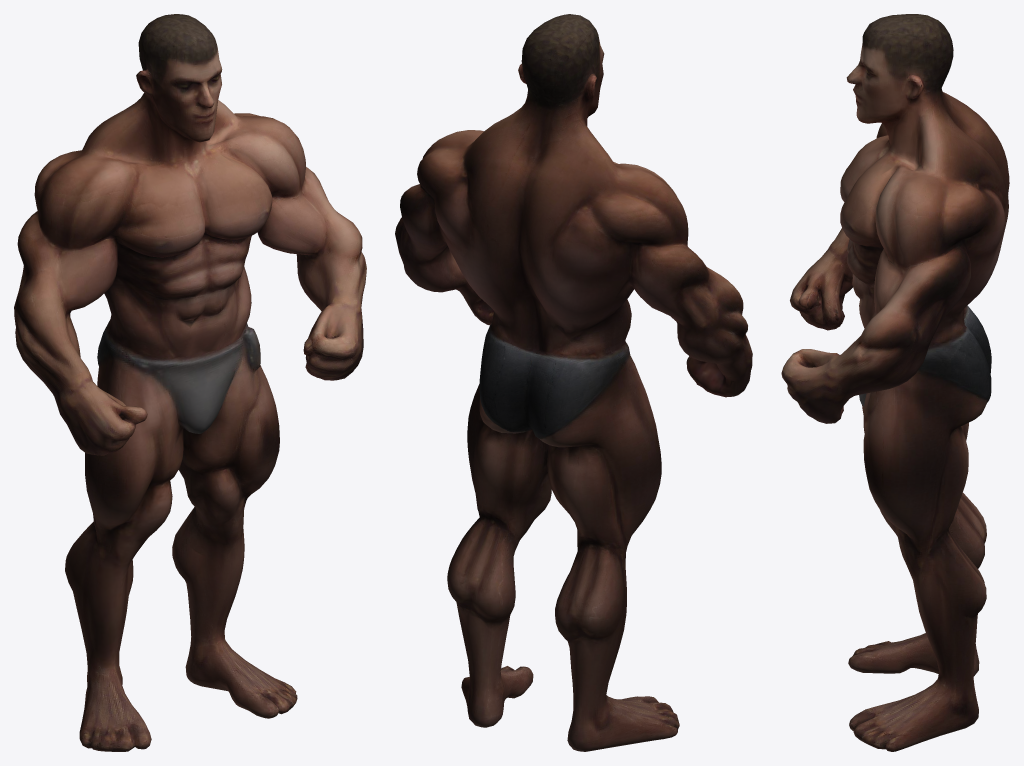
The model's file is asset.glb.
The picture shows the model from 3 angles, left to right: view 1: azimuth 30°, elevation 25°; view 2: azimuth 150°, elevation 25°; view 3: azimuth 270°, elevation 25°; orthographic projection.
Parts seen in each view (by area): view 1: world; view 2: world; view 3: world.
Boxes of the visible parts, <box> form: world: <box>14,14,366,751</box>; world: <box>395,14,752,751</box>; world: <box>781,14,1009,751</box>.
Size of the model in its own units: 0.473 by 0.9263 by 0.2794.
Materials: 1 (1 with a texture image).
